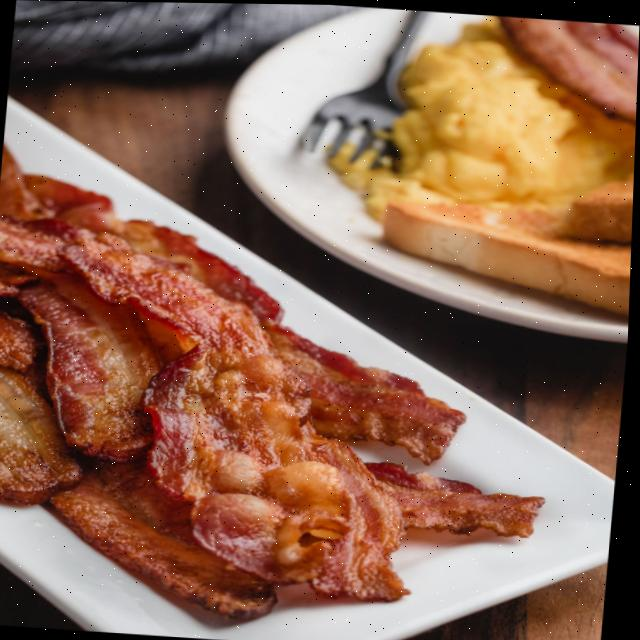Bacon: (1, 219, 409, 599), (54, 459, 281, 619), (267, 321, 469, 463), (20, 276, 163, 462)
